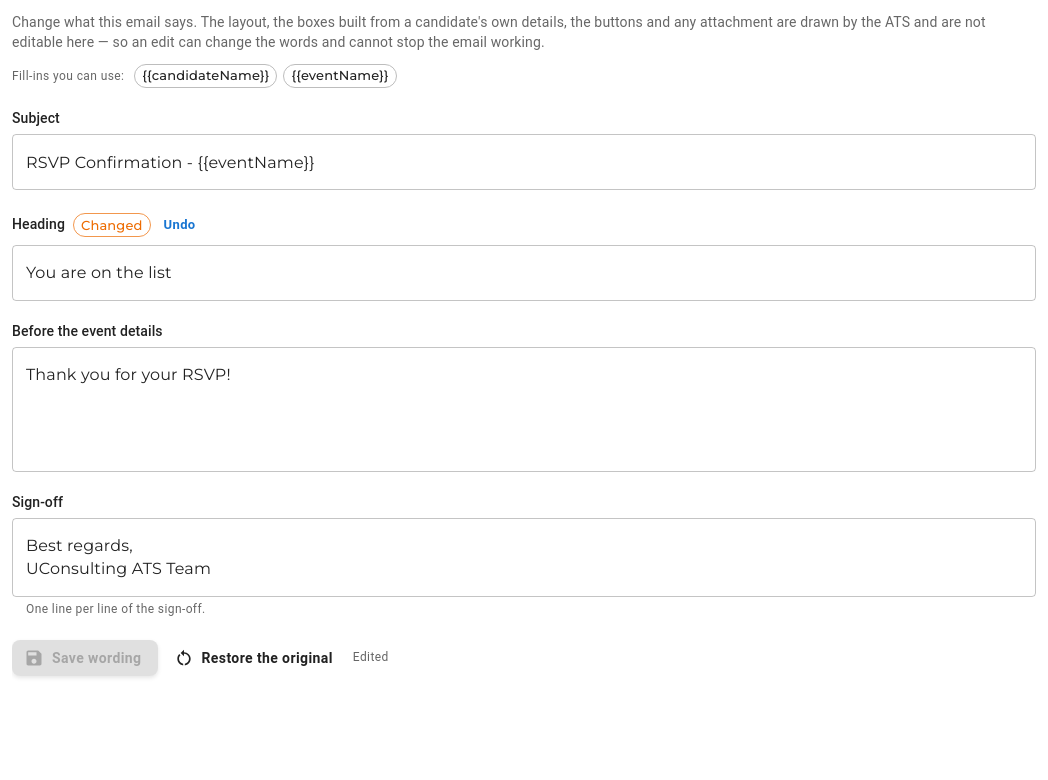
Test: EmailTemplateEditor › restores the original wording
Expected: the field named "Heading" holds "You are on the list", [12,245,1036,301]
Click the button "Restore the original": (255, 658) [170,640,341,676]
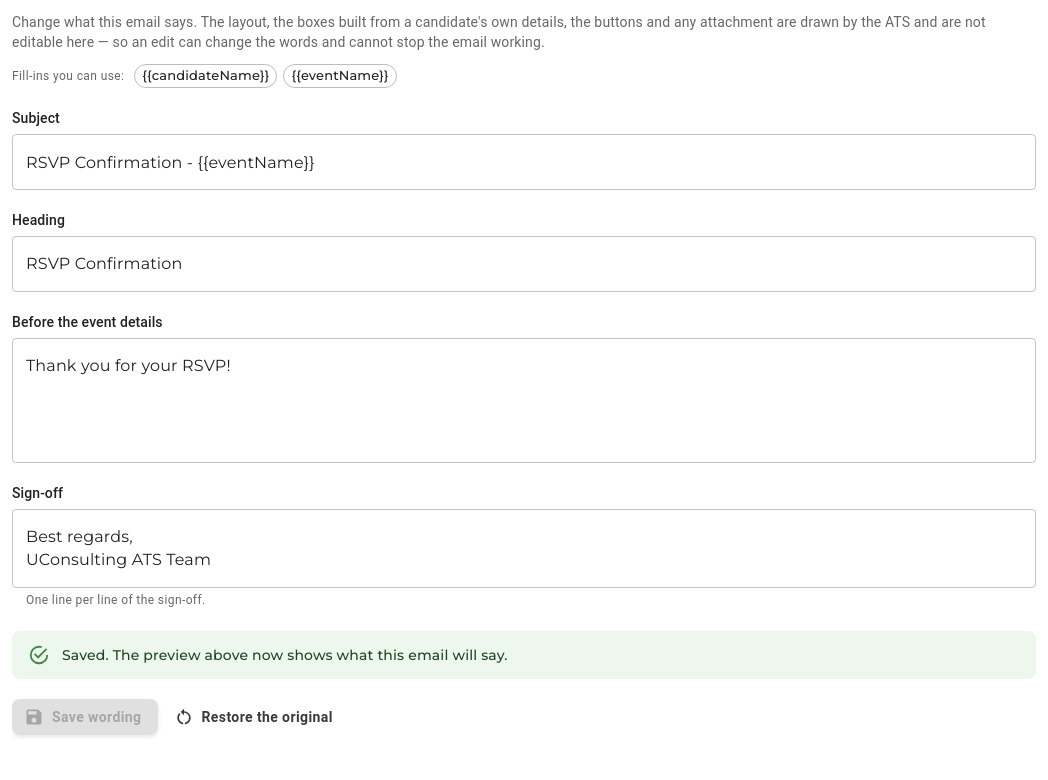
Expected: the field named "Heading" holds "RSVP Confirmation", [12,236,1036,292]
